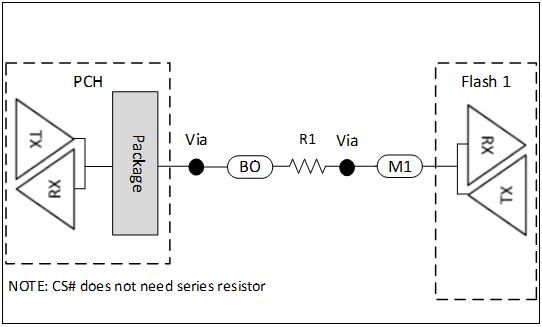circle: (188, 158, 205, 176), (339, 160, 355, 176)
dotted_rectangle: (2, 60, 173, 267), (431, 58, 540, 303)
oval: (226, 153, 274, 179), (377, 154, 424, 177)
rectangle: (112, 91, 158, 235)
resistor: (288, 154, 328, 177)
triangle: (15, 146, 76, 232), (469, 152, 530, 237), (466, 103, 527, 187), (14, 99, 76, 180)
